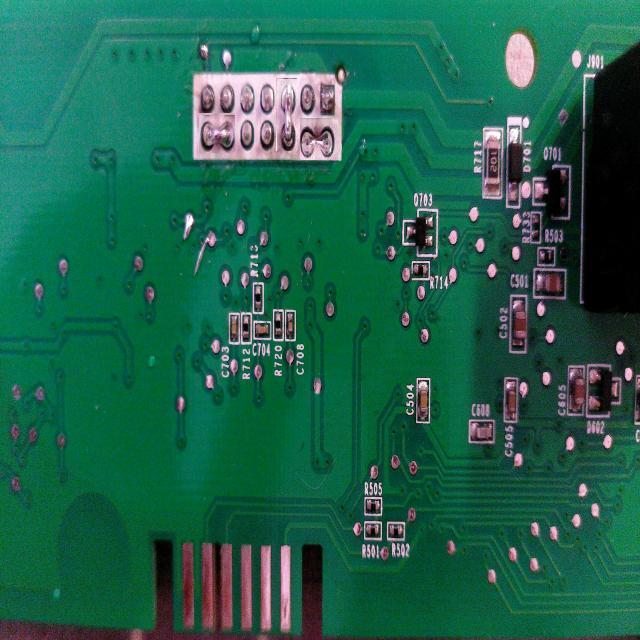Short_circuit: (300, 118, 338, 160), (276, 78, 297, 151), (198, 114, 235, 154)
